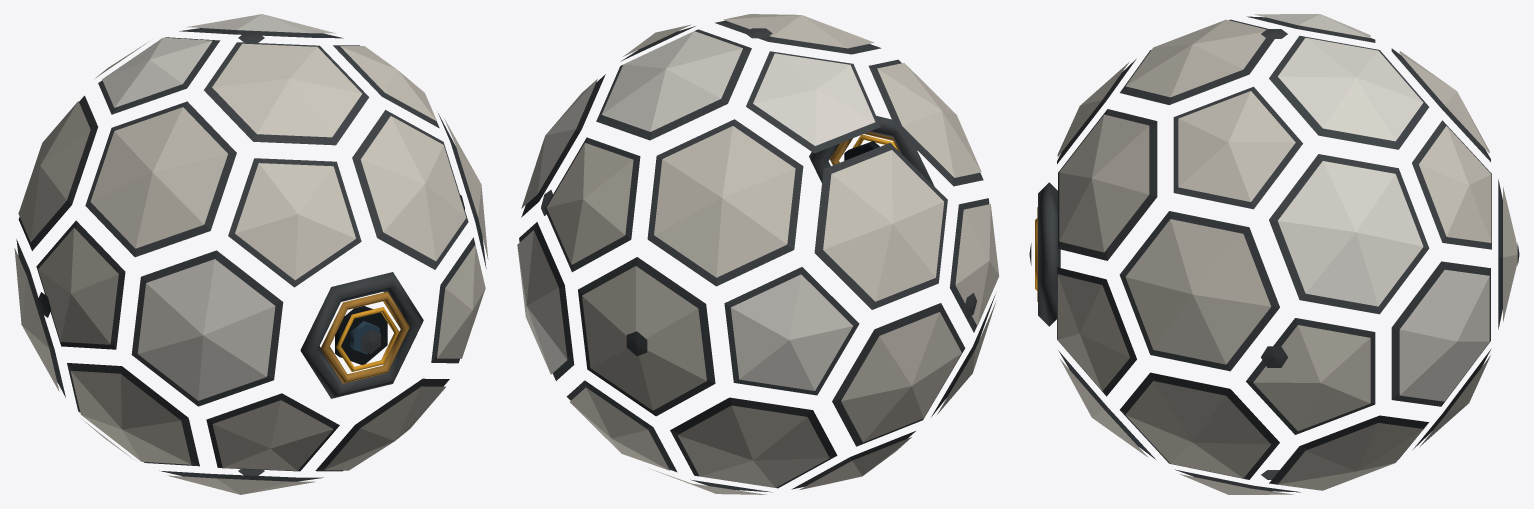
Rendered from tai09_d0_lod2.meshopt.glb.
3 renders of one model, left to right at view 1: azimuth 30°, elevation 25°; view 2: azimuth 150°, elevation 25°; view 3: azimuth 270°, elevation 25°, orthographic. The views are drawn at different scales.
Visible parts, largest first — view 1: TAI_STATIC; view 2: TAI_STATIC; view 3: TAI_STATIC.
Boxes of the visible parts, bbox=[...] form: TAI_STATIC: bbox=[14, 14, 488, 494]; TAI_STATIC: bbox=[517, 14, 999, 494]; TAI_STATIC: bbox=[1029, 14, 1519, 494].
Bounding box in the file's own units: 1.6 × 1.6 × 1.6.
